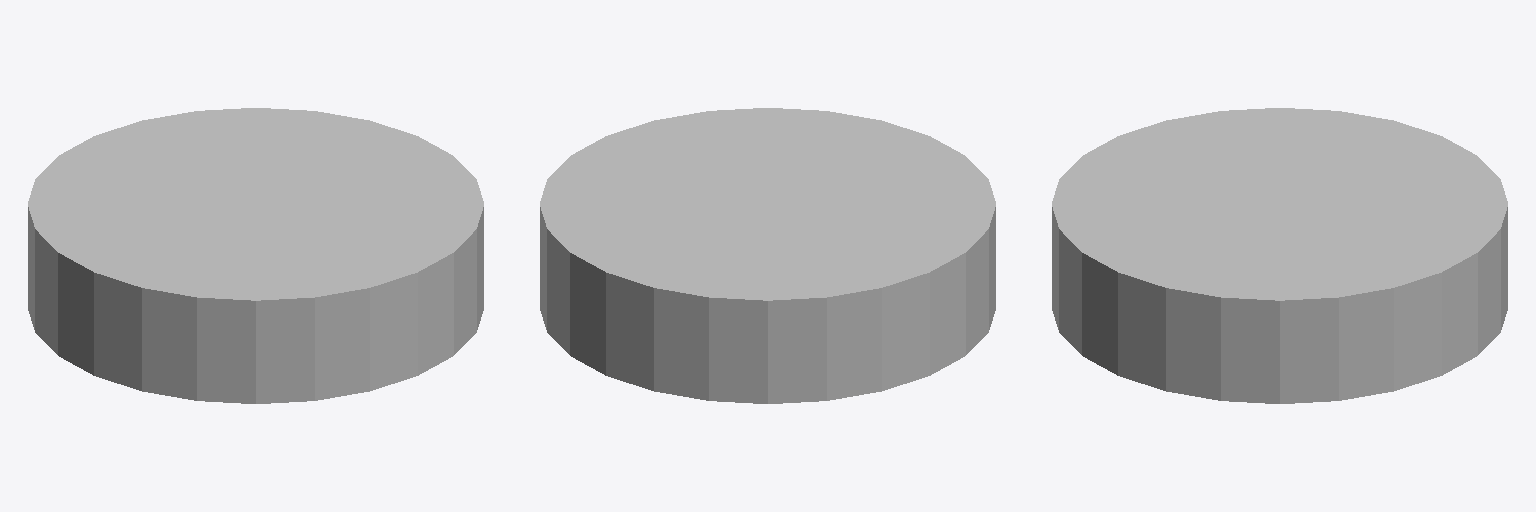
File: original-75.obj
3 renders of one model, left to right at view 1: azimuth 30°, elevation 25°; view 2: azimuth 150°, elevation 25°; view 3: azimuth 270°, elevation 25°, orthographic.
Parts seen in each view (by area): view 1: group_36/ID479#ID479; view 2: group_36/ID479#ID479; view 3: group_36/ID479#ID479.
Part boxes in pixels (left/top/right/bottom): group_36/ID479#ID479: left=28, top=108, right=483, bottom=403; group_36/ID479#ID479: left=540, top=108, right=995, bottom=403; group_36/ID479#ID479: left=1052, top=108, right=1507, bottom=403.
Size of the model in its own units: 0.0602 by 0.015 by 0.0602.